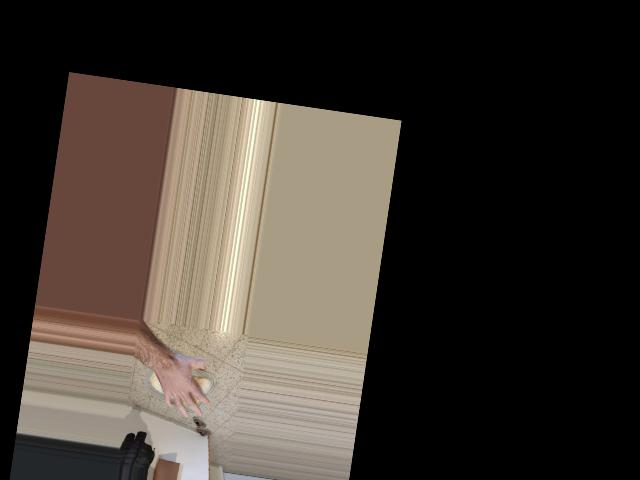cheese: (144, 345, 218, 419)
